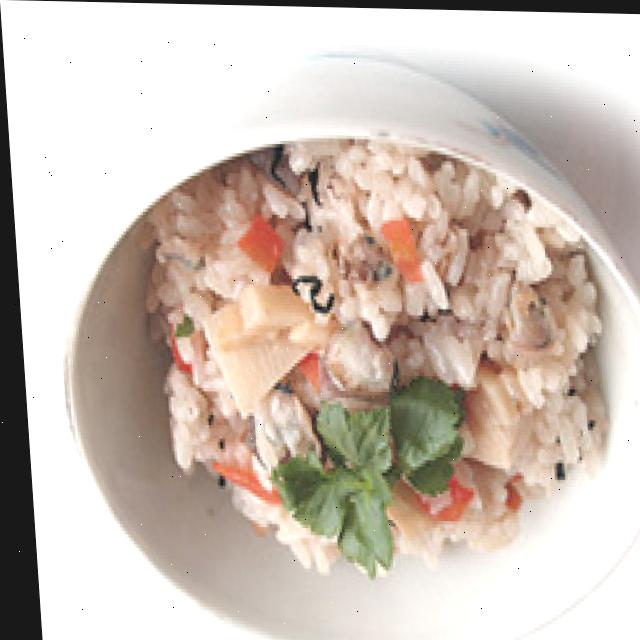米饭主食: (144, 130, 621, 586)
